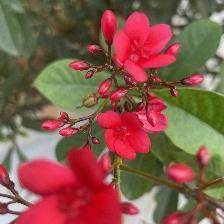jatropha: (112, 9, 179, 84), (96, 106, 153, 166)
